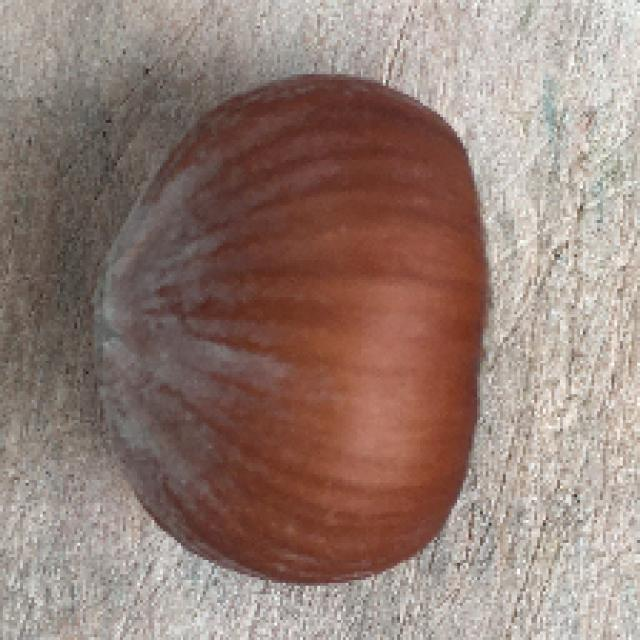qualityHazelnut: (89, 69, 491, 586)
